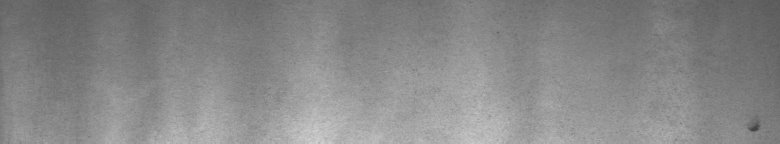fi: (744, 119, 764, 136)
